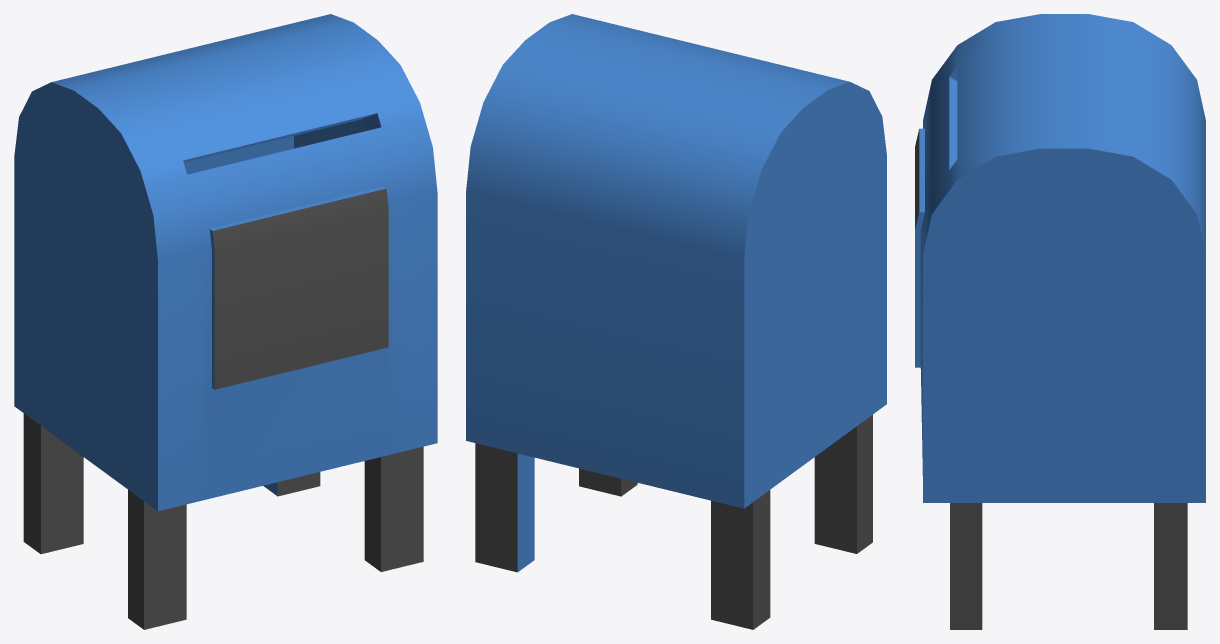
File: PostaKutusu.fbx
3 renders of one model, left to right at view 1: azimuth 30°, elevation 25°; view 2: azimuth 150°, elevation 25°; view 3: azimuth 270°, elevation 25°, orthographic.
Parts seen in each view (by area): view 1: posta kutusu; view 2: posta kutusu; view 3: posta kutusu.
Part boxes in pixels (x1,y1,x2,y2): posta kutusu: [14, 14, 437, 629]; posta kutusu: [466, 14, 886, 629]; posta kutusu: [915, 14, 1205, 629].
Bounding box in the file's own units: 68.08 × 114 × 62.21.
